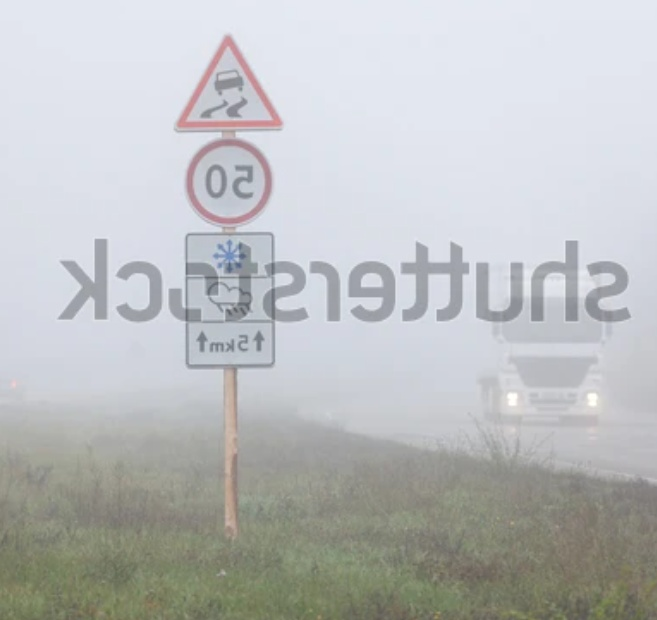Slippery road: (151, 18, 298, 133)
Speed limit: (178, 141, 293, 221)
